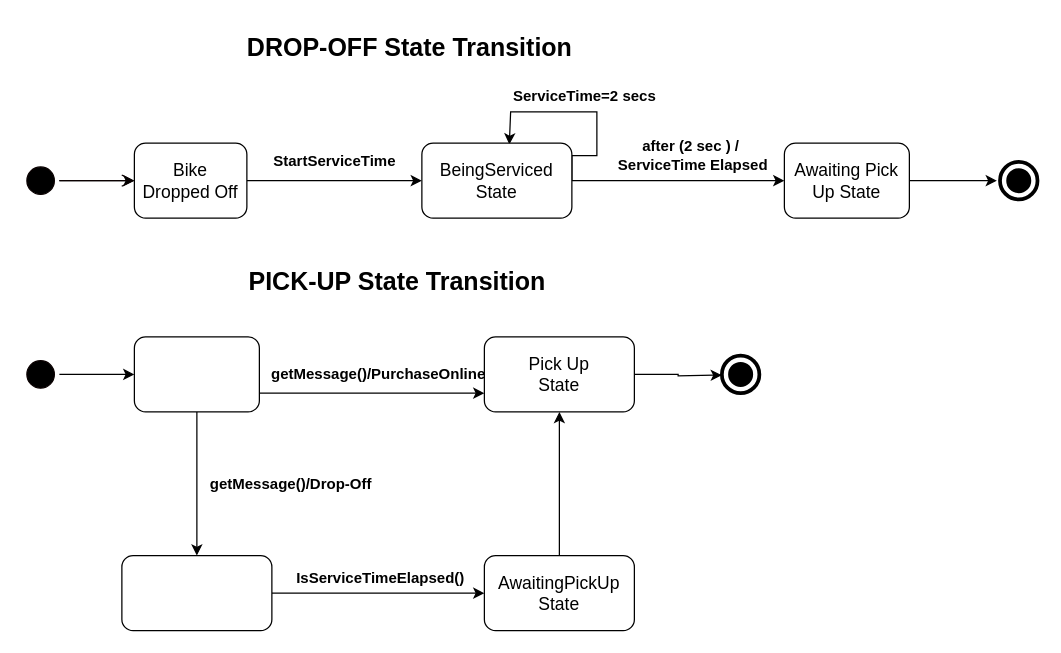
The diagram is 1061 pixels wide and 653 high, and some of its shapes have lost their labels. The box of each missing label's shape, as (x1, y1, x2, y2) in pixels:
Being Serviced State: (121, 554, 272, 631)
Bike PickUpRequest: (133, 336, 259, 412)
